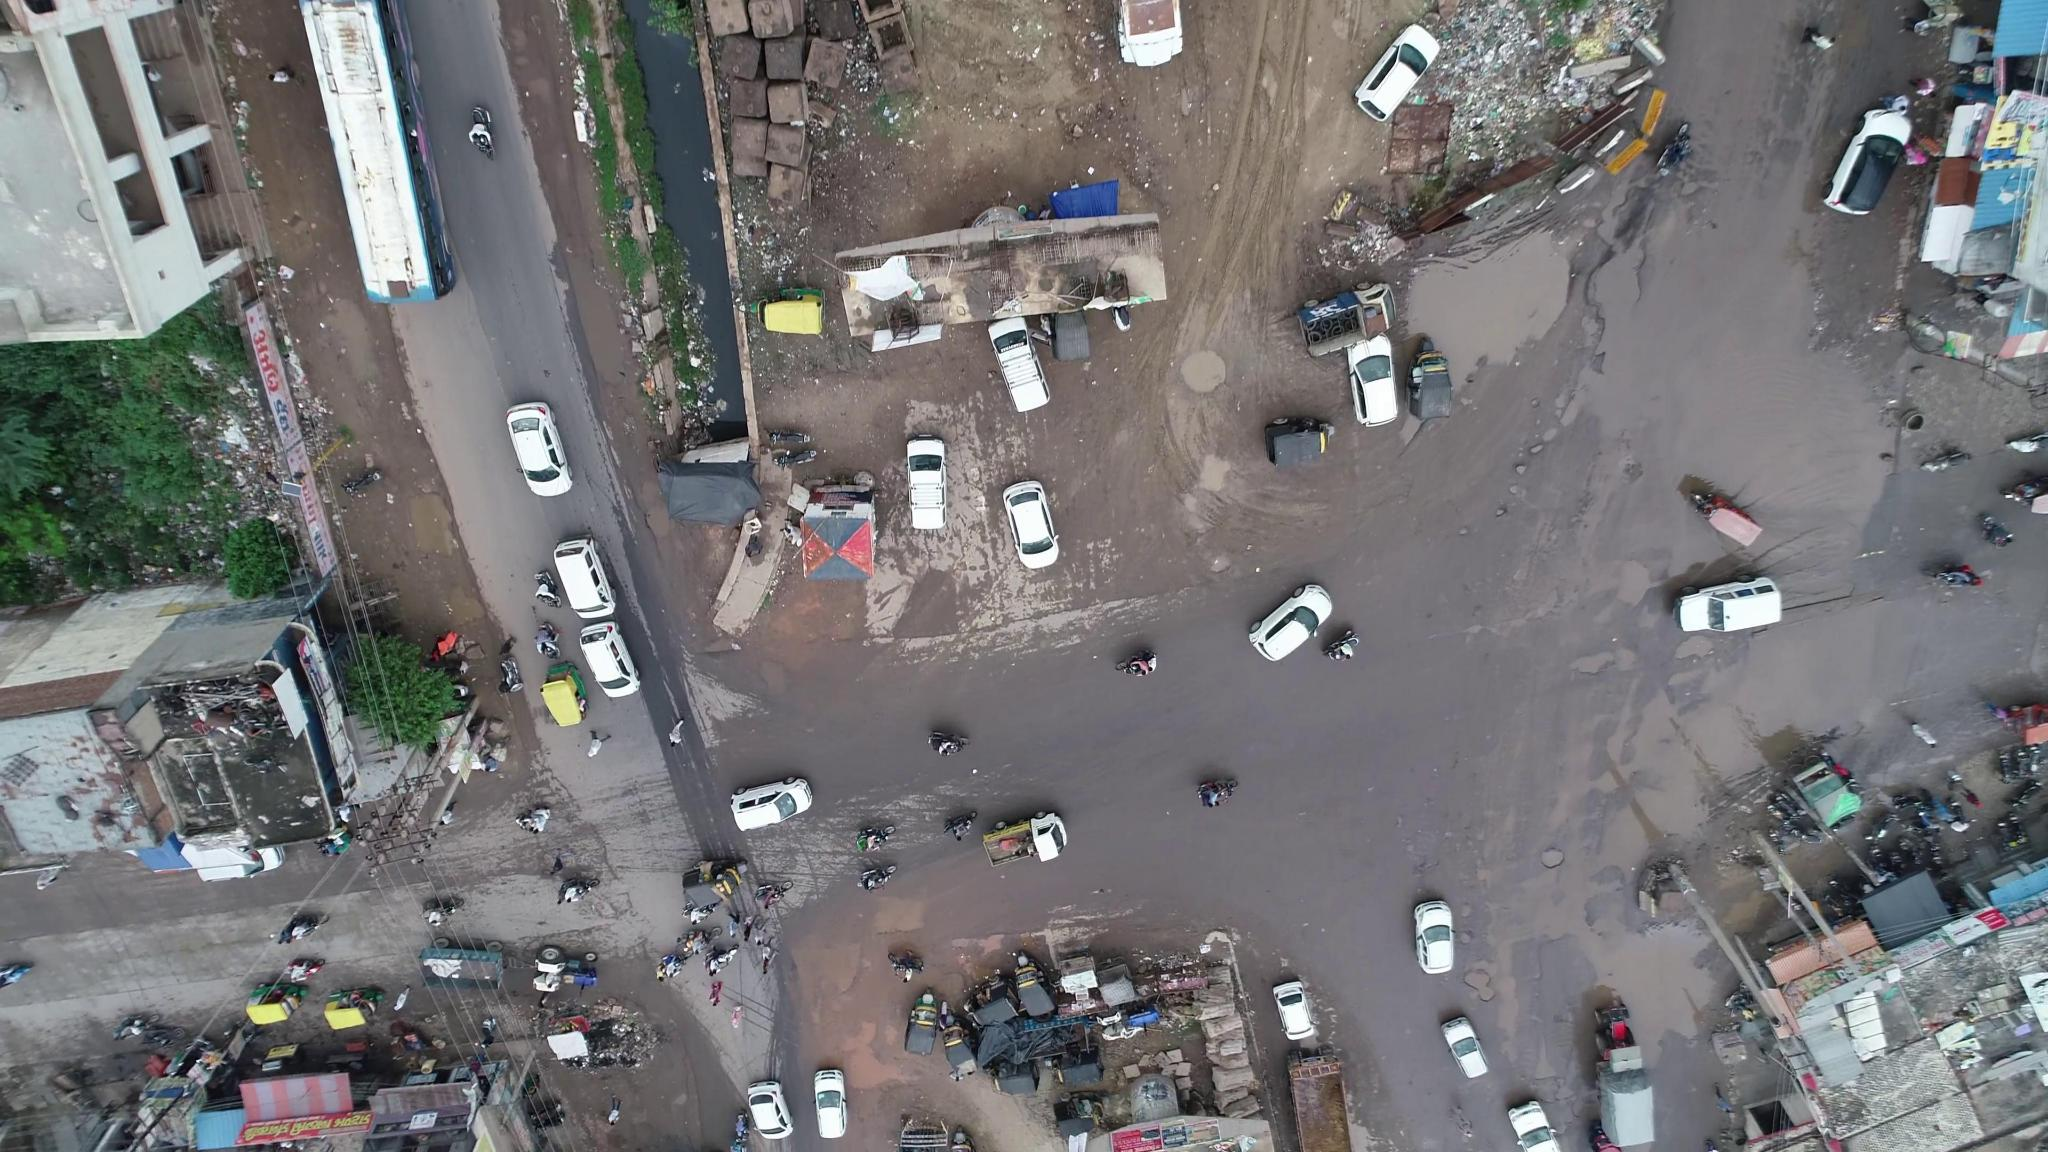Potholes: (1463, 388, 1573, 537), (1447, 890, 1521, 1010), (1639, 639, 1722, 703), (1547, 634, 1634, 692), (1537, 821, 1584, 883)
Waterlogging: (1596, 708, 1724, 1052)
